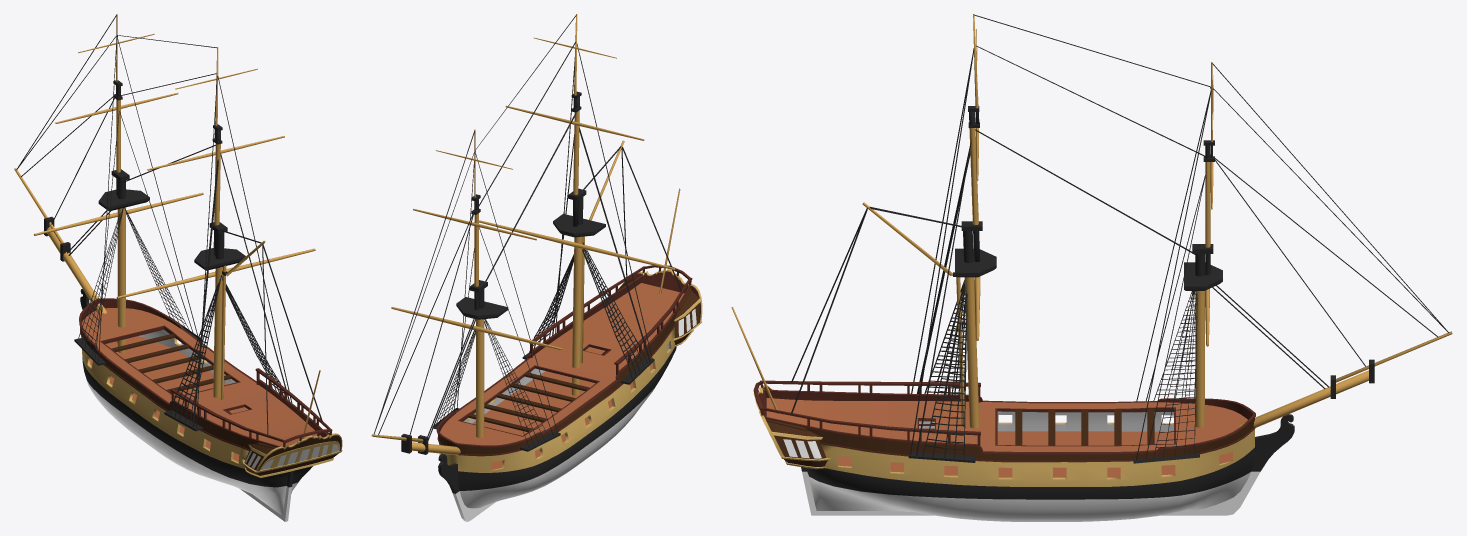
File: shipTEST3.fbx
3 views of the same model, side by side, from view 1: azimuth 30°, elevation 25°; view 2: azimuth 150°, elevation 25°; view 3: azimuth 270°, elevation 25° (orthographic). The views are drawn at different scales.
Visible parts, largest first — view 1: Hull, Rigging, Mainmast, Foremast, Cabin, Rails, Bowsprit, Mizzenmast.003, Bulwarks; view 2: Hull, Rigging, Mainmast, Foremast, Cabin, Rails, Bowsprit, Bulwarks, Mizzenmast.003; view 3: Hull, Rigging, Mainmast, Foremast, Rails, Cabin, Bowsprit, Mizzenmast.003.
Boxes of the visible parts, x1,y1,x2,y2 form: Hull: (79, 289, 327, 521); Rigging: (16, 15, 322, 434); Mainmast: (116, 47, 315, 397); Foremast: (34, 14, 203, 353); Cabin: (242, 432, 342, 477); Rails: (170, 368, 332, 447); Bowsprit: (14, 168, 117, 343); Mizzenmast.003: (220, 240, 265, 399); Bulwarks: (74, 316, 294, 431); Hull: (436, 275, 690, 521); Rigging: (373, 15, 681, 448); Mainmast: (479, 14, 675, 395); Foremast: (391, 129, 562, 437); Cabin: (618, 269, 702, 346); Rails: (529, 265, 692, 374); Bowsprit: (371, 434, 460, 455); Bulwarks: (432, 353, 654, 451); Mizzenmast.003: (580, 140, 624, 363); Hull: (764, 389, 1294, 521); Rigging: (791, 14, 1448, 460); Mainmast: (955, 14, 996, 428); Foremast: (1184, 62, 1222, 427); Rails: (753, 380, 980, 446); Cabin: (753, 385, 831, 469); Bowsprit: (1238, 331, 1452, 427); Mizzenmast.003: (862, 202, 964, 426).
Bounding box in the file's own units: 1752 × 3589 × 4686.
